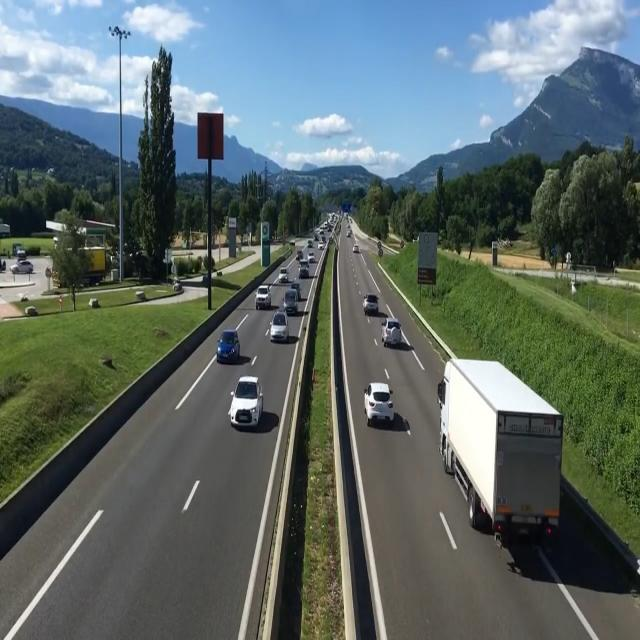car: (231, 373, 267, 434), (365, 380, 398, 431), (217, 326, 246, 364), (269, 302, 291, 344), (382, 314, 407, 349), (362, 291, 385, 319), (249, 282, 272, 310), (280, 286, 300, 314), (278, 263, 289, 283), (298, 262, 310, 280)
truck: (437, 344, 568, 579)
